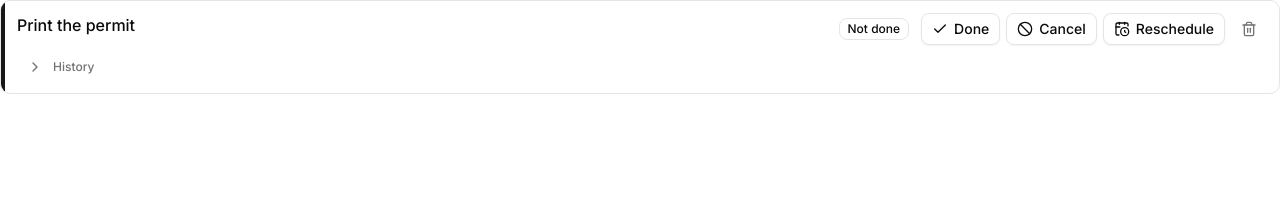
Test case: the history disclosure › closes again
What coordinates should you click on to do the following:
click the button with aria-label "Show history for “Print the permit”"
I would click on:
 (61, 67)
Its box is [17,53,104,81].
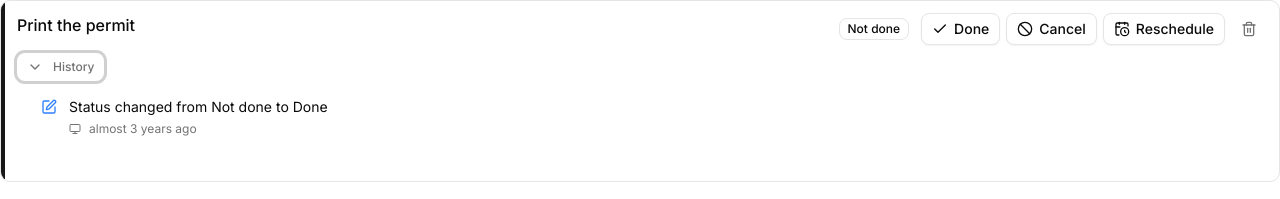
What coordinates should you click on to do the following:
click the button with aria-label "Hide history for “Print the permit”"
I would click on:
 (61, 67)
Its box is [17,53,104,81].
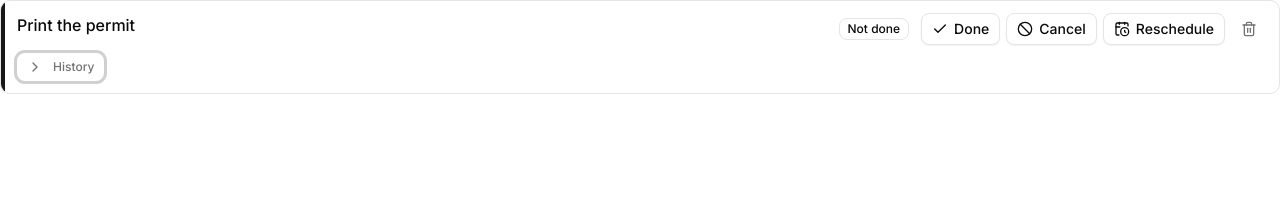
Expected: the element with test id "activity-feed" is gone
